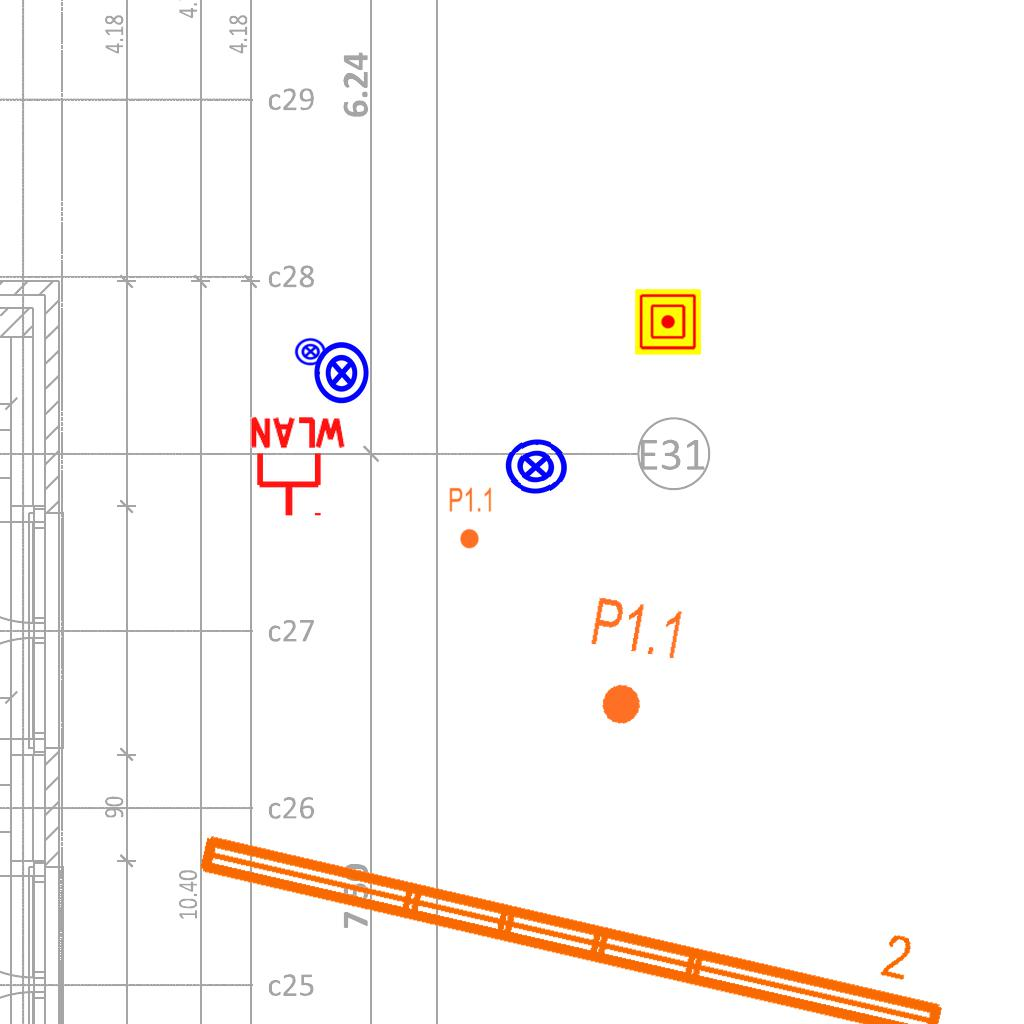Ambulanz_Pendelleuchte_LED: (186, 771, 966, 1024)
Downlight_LED_Einbauleuchten_Flur: (574, 592, 689, 736), (448, 486, 494, 550)
NAM-Nichtautomatischer_Melder: (635, 289, 701, 355)
Taster_beleuchtet: (501, 432, 571, 502), (309, 340, 375, 406), (294, 335, 327, 368)
WLAN: (246, 415, 350, 520)
